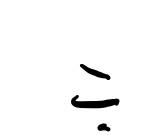div: (72, 63, 119, 131)
